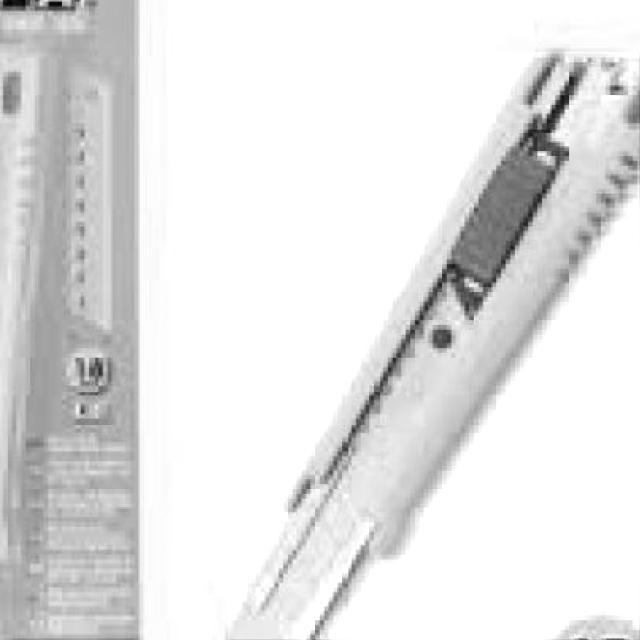estilete: (229, 52, 639, 640)
